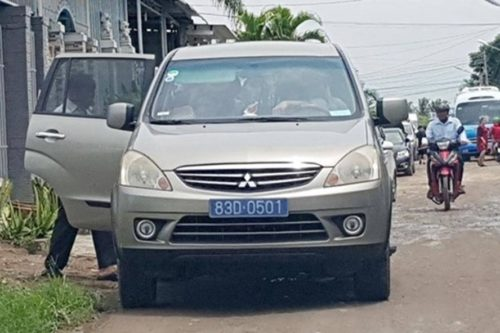plate: (208, 197, 289, 219)
